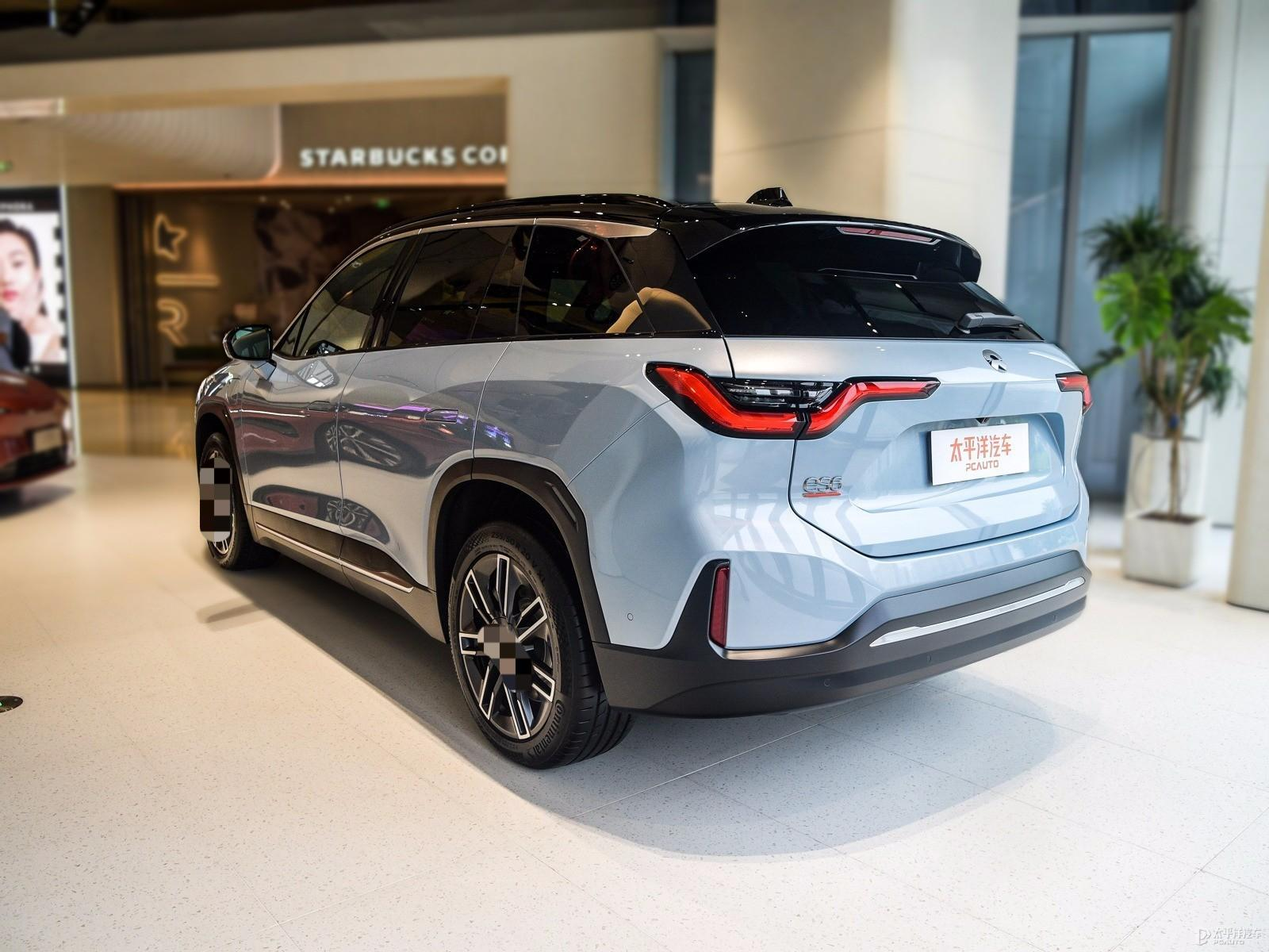NIO: (981, 347, 1007, 372)
